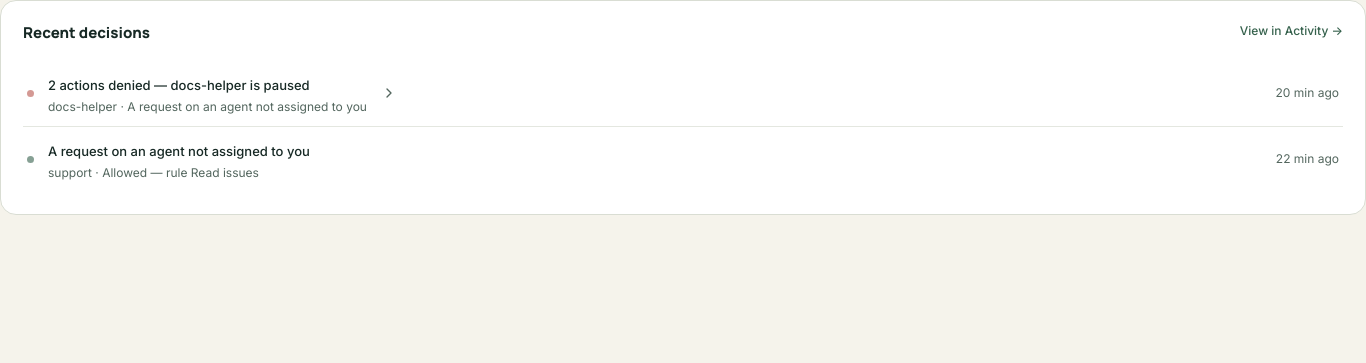
Test: recent decisions › a group opens to show each decision
Expected: the number of links "Allowed — rule Read issues" is 1, [27,142,1339,180]
Click the text "2 actions denied — docs-helper is paused" at point(179, 84), box [48,76,310,92]
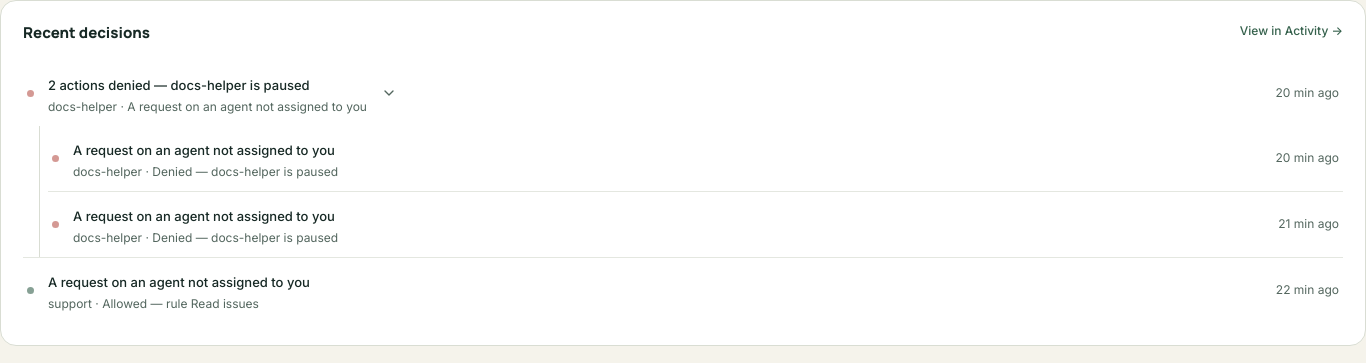
Expected: the number of links named "Denied — docs-helper is paused" is 2, [52,142,1339,178]; [52,208,1339,244]
